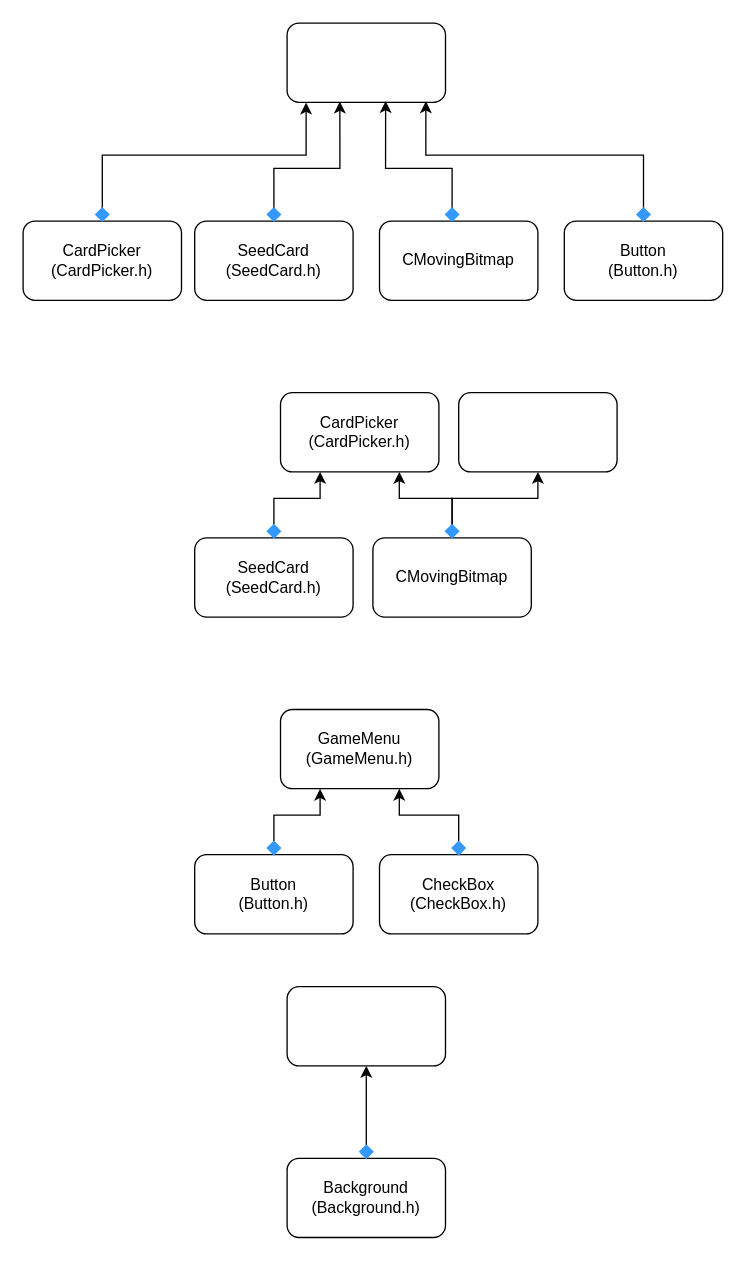
This 746x1261 diagram has some shape labels left out. Each missing label, with the centre of its shape:
GameBar (GameBar.h): [366,62]
GameOver (GameOver.h): [366,1025]
ProgressBar (ProgressBar.h): [537,431]
